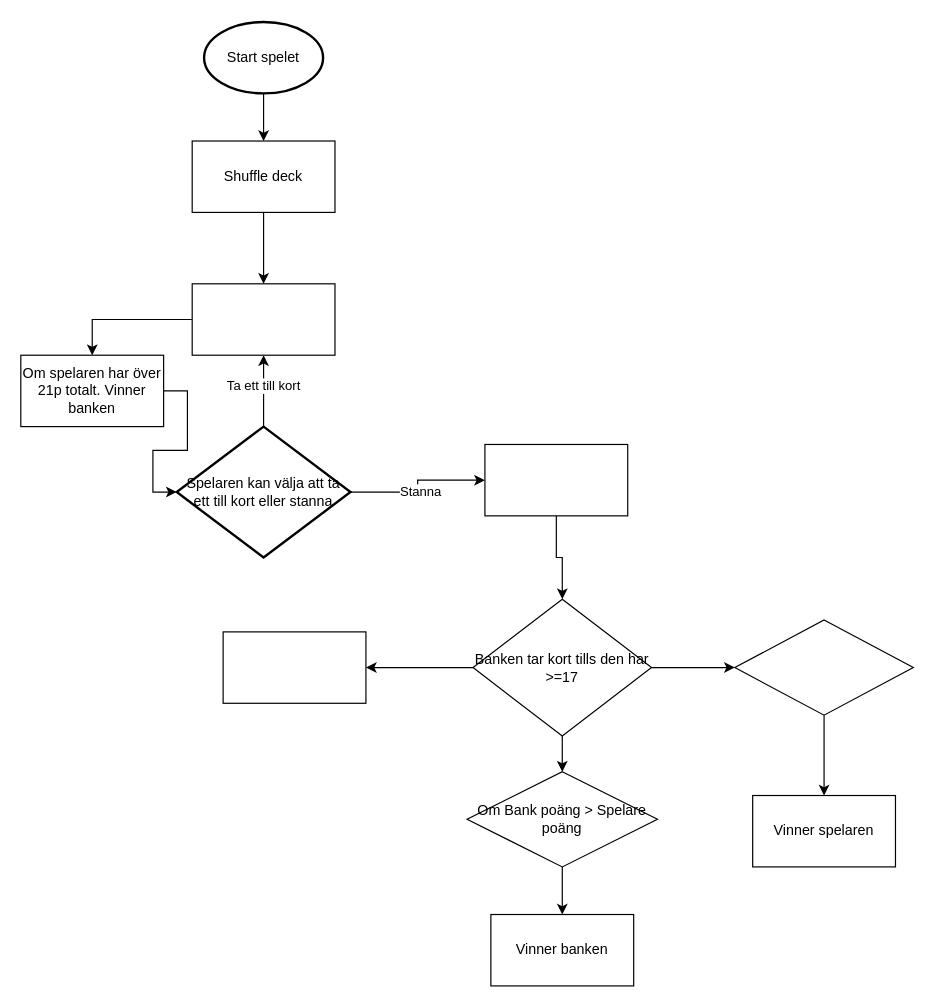
Some shapes in this 934 by 1007 pixel diagram are drawn without their labels. Each missing label, with the box of its shape:
Banken tar ett kort: (484, 443, 628, 516)
Om banken får >21p vinner spelaren: (222, 631, 366, 703)
Om Spelare poäng > Bank poäng: (734, 619, 913, 715)
Spelaren tar ett kort, kortet visas: (191, 283, 335, 355)
